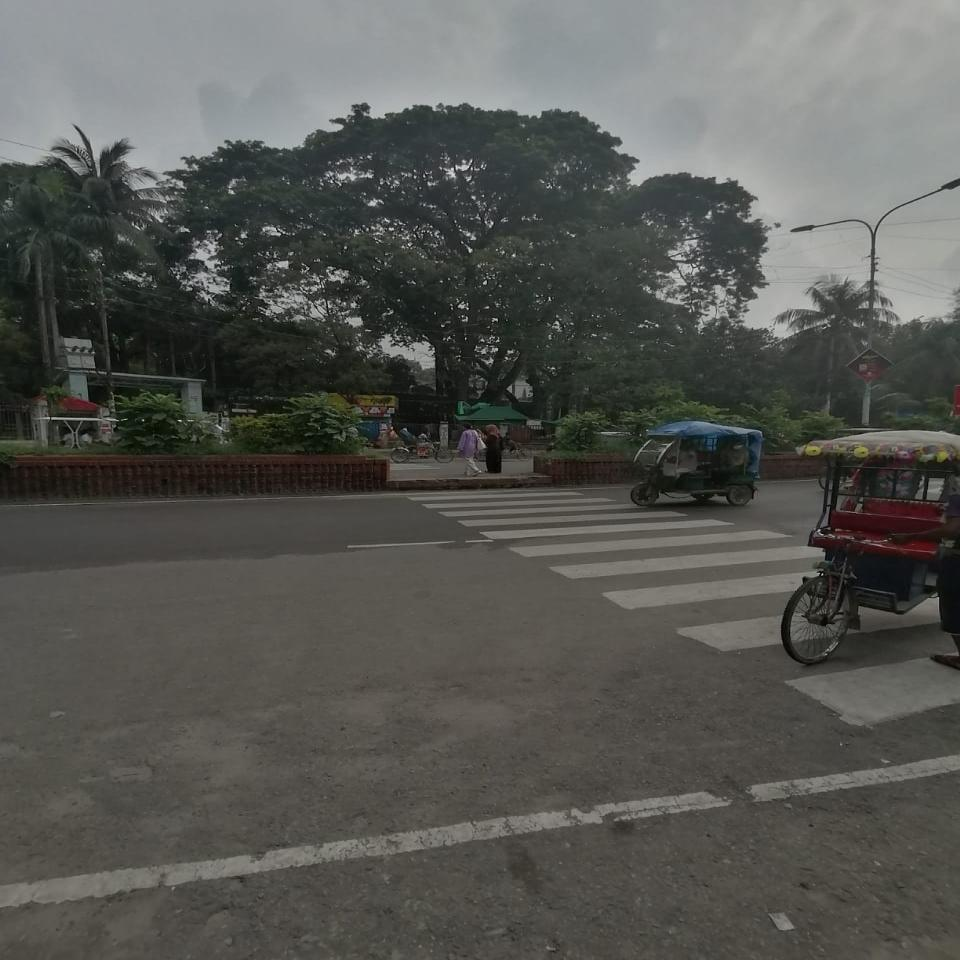person: (457, 423, 483, 477), (484, 424, 503, 474)
